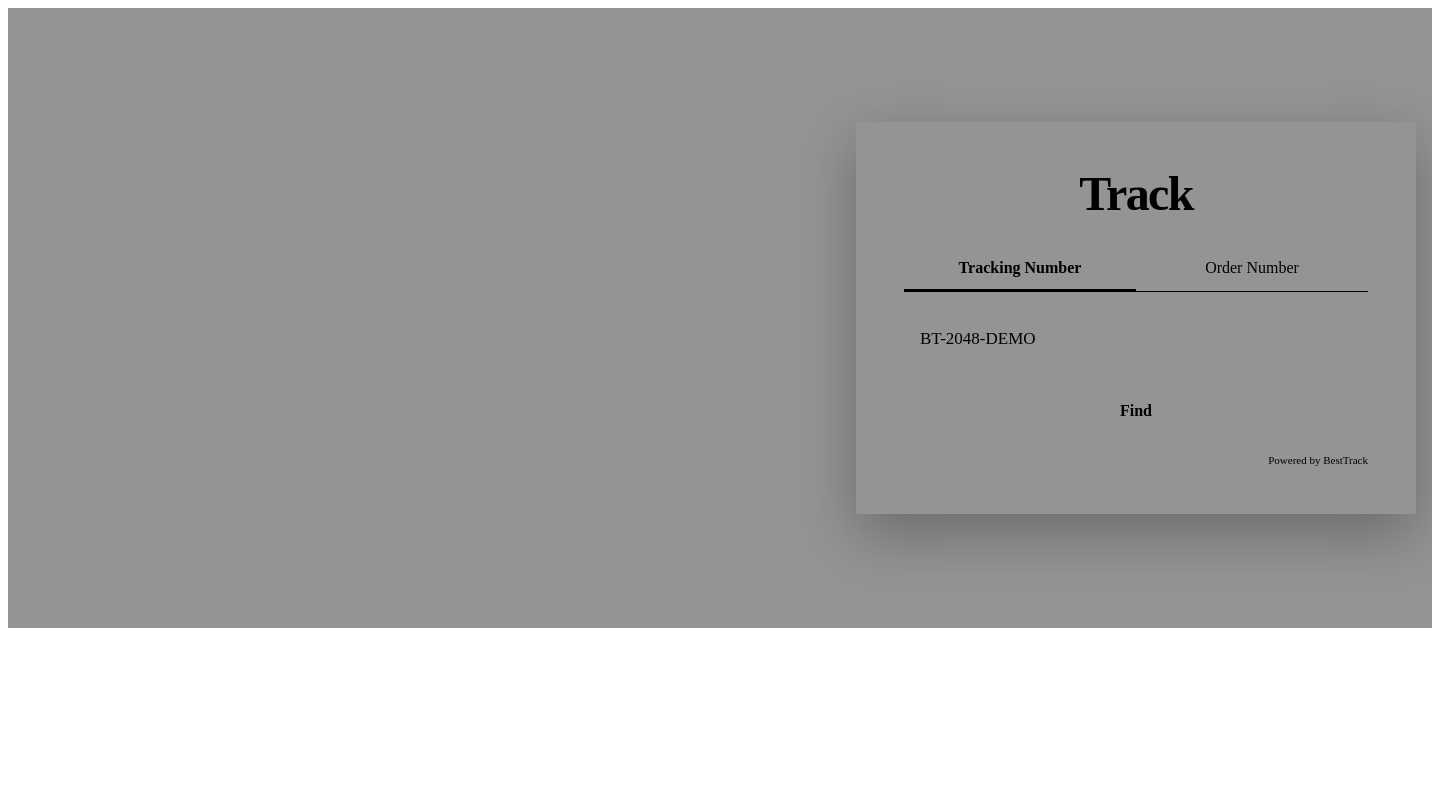
Scenario: discriminated query cards › shows Sales local validation, preserves tab input, and replaces the in-card result
The width and height of the screenshot is (1440, 810).
Click the tab "Order Number": {"x": 1252, "y": 269} [1136,247,1368,291]
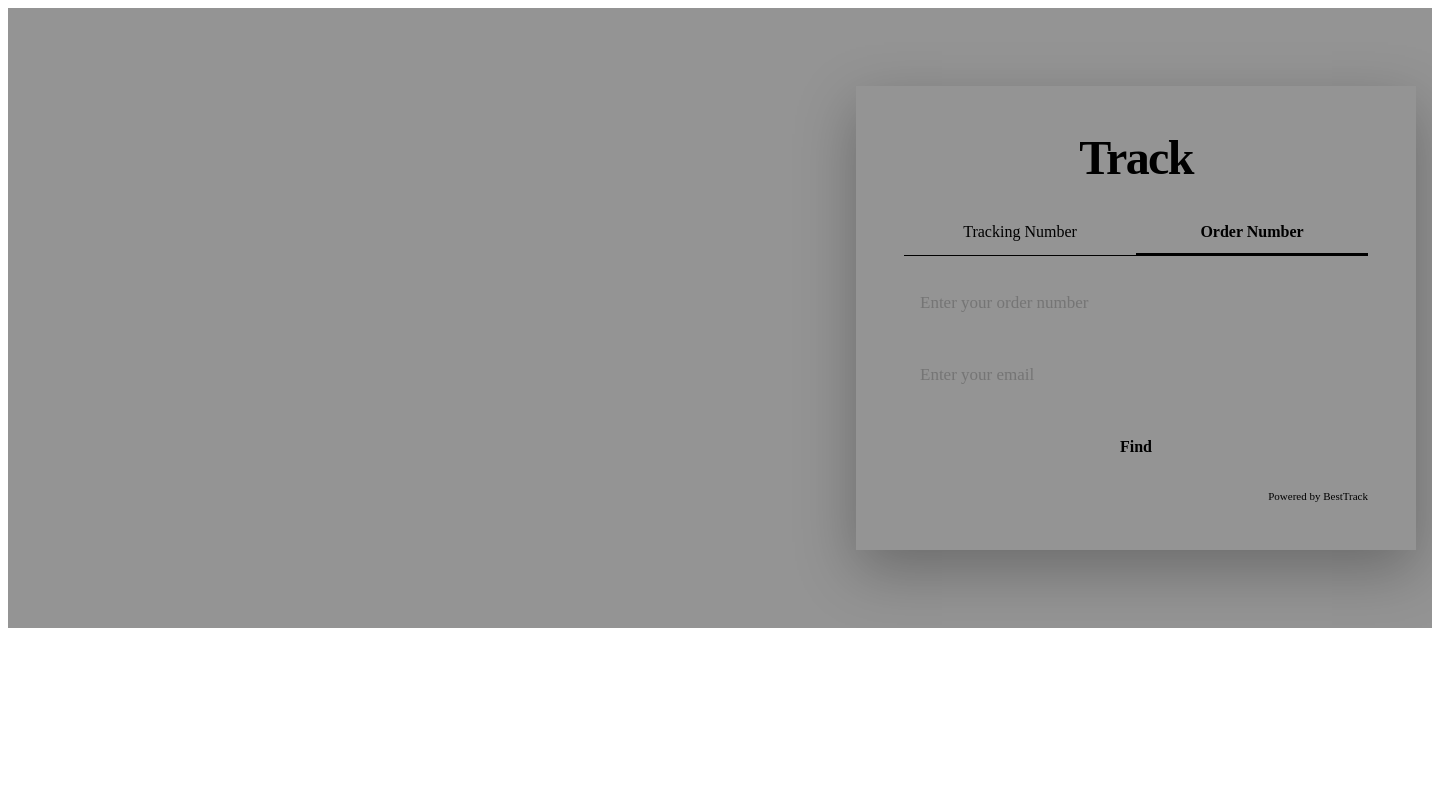
Note: 订单号和邮箱都为空时在表单边界拦截；不依赖旧 Sales 分字段格式错误文案。
Click the button "Find": {"x": 1136, "y": 447} [904,418,1368,476]
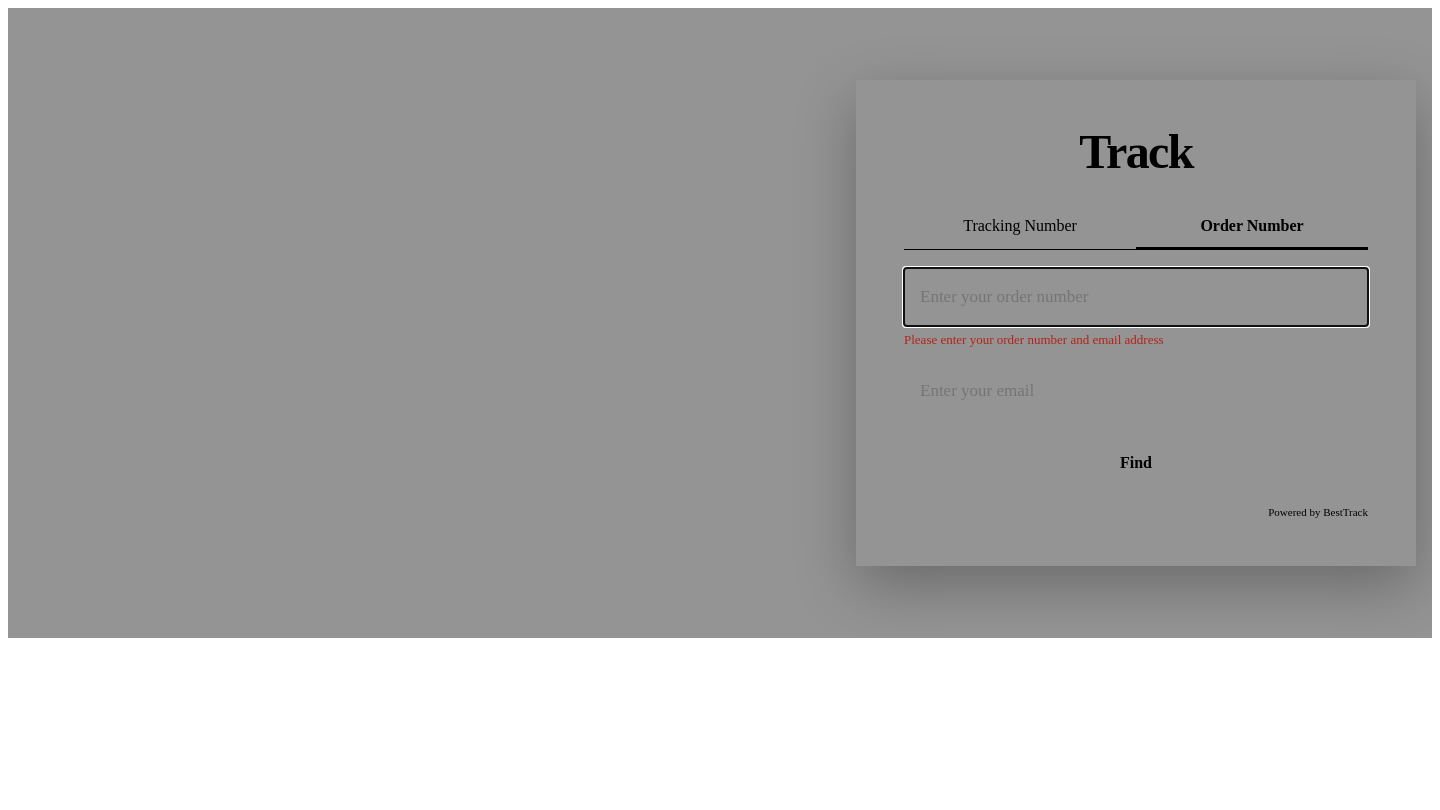
Result: the message "Please enter your order number and email address" is not empty at [904,332,1164,347]
Click the tab "Tracking Number": {"x": 1020, "y": 227} [904,205,1136,249]
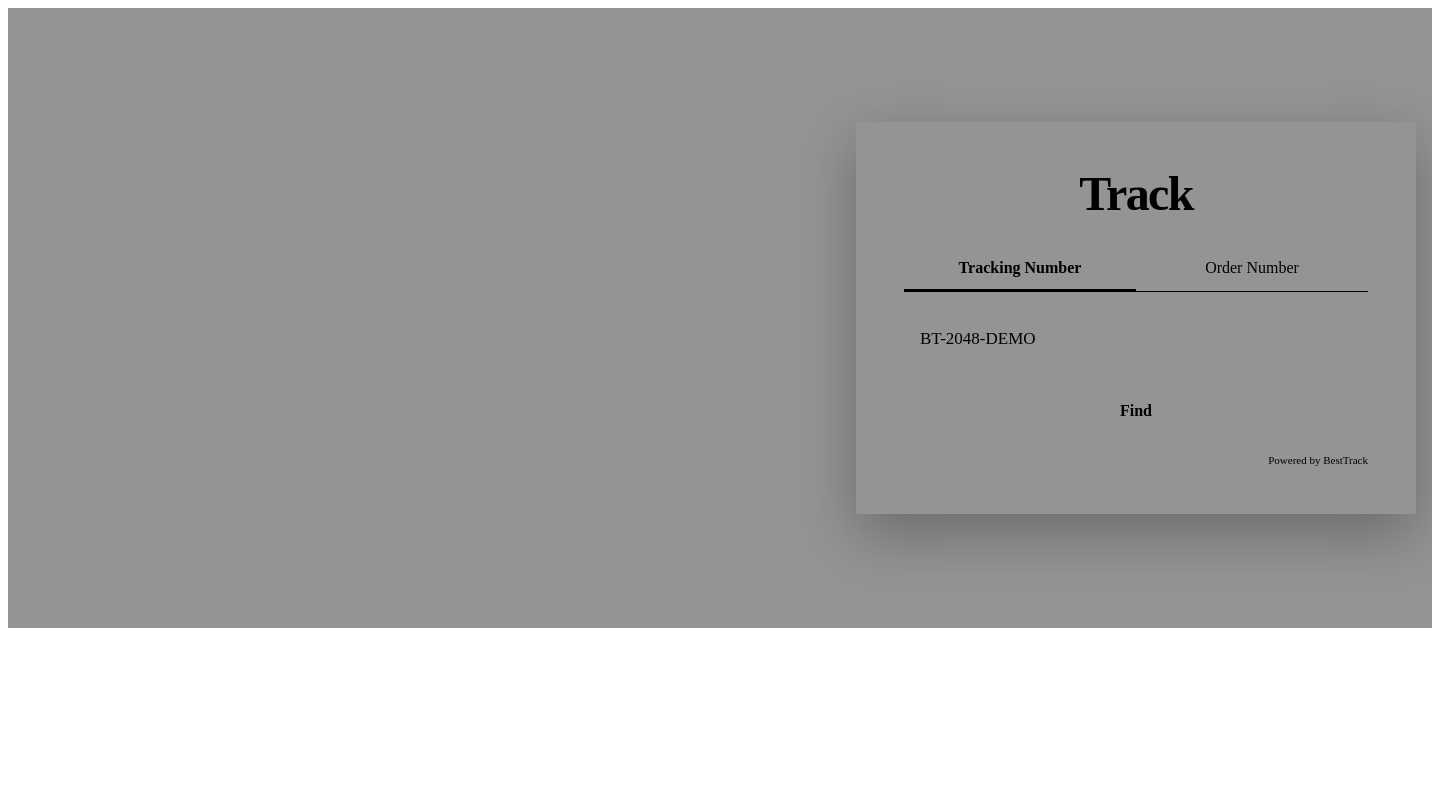
Replace the text in the field named "Sales tracking number" with "BT-2048": {"x": 1136, "y": 339} [904,310,1368,368]
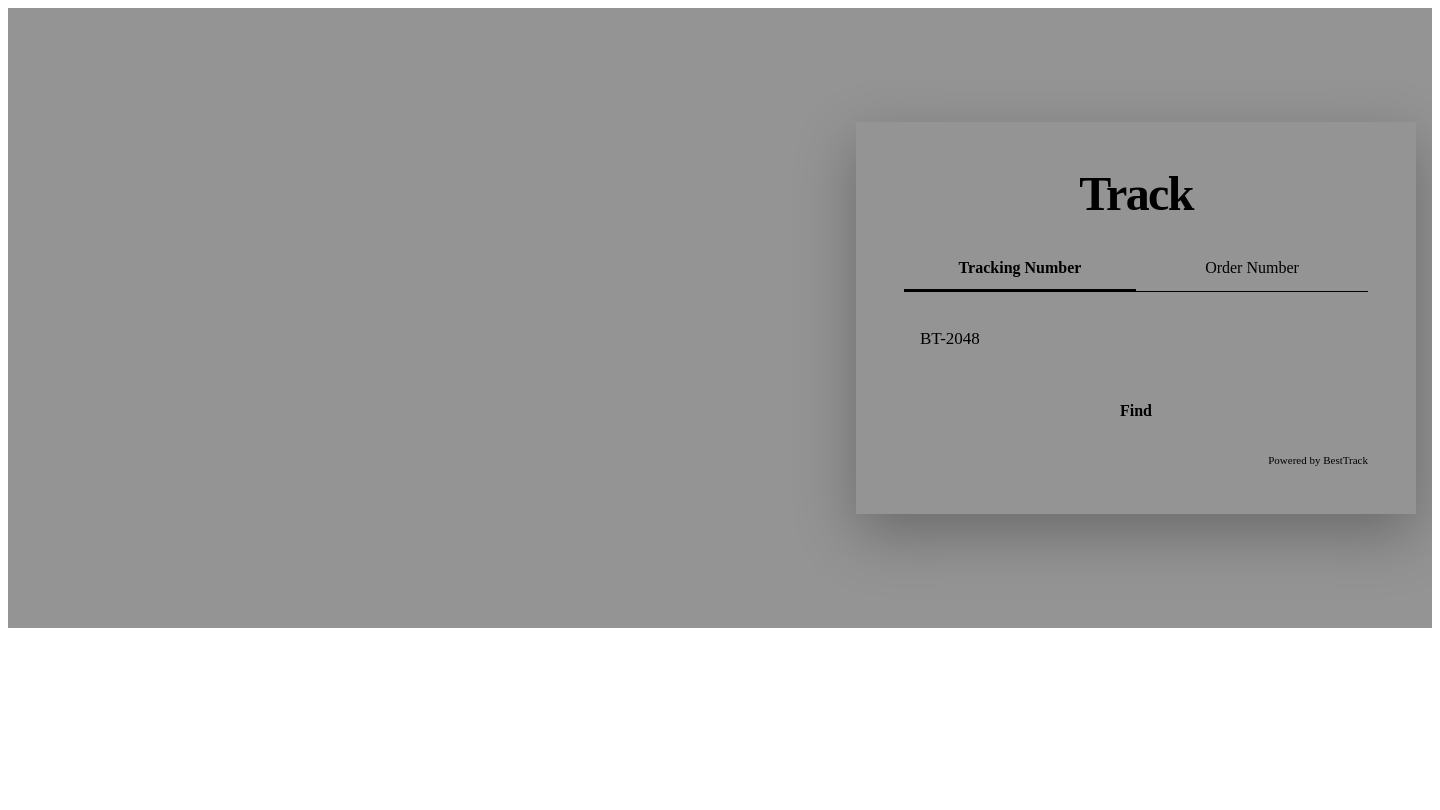
Click the button "Find": {"x": 1136, "y": 411} [904,382,1368,440]
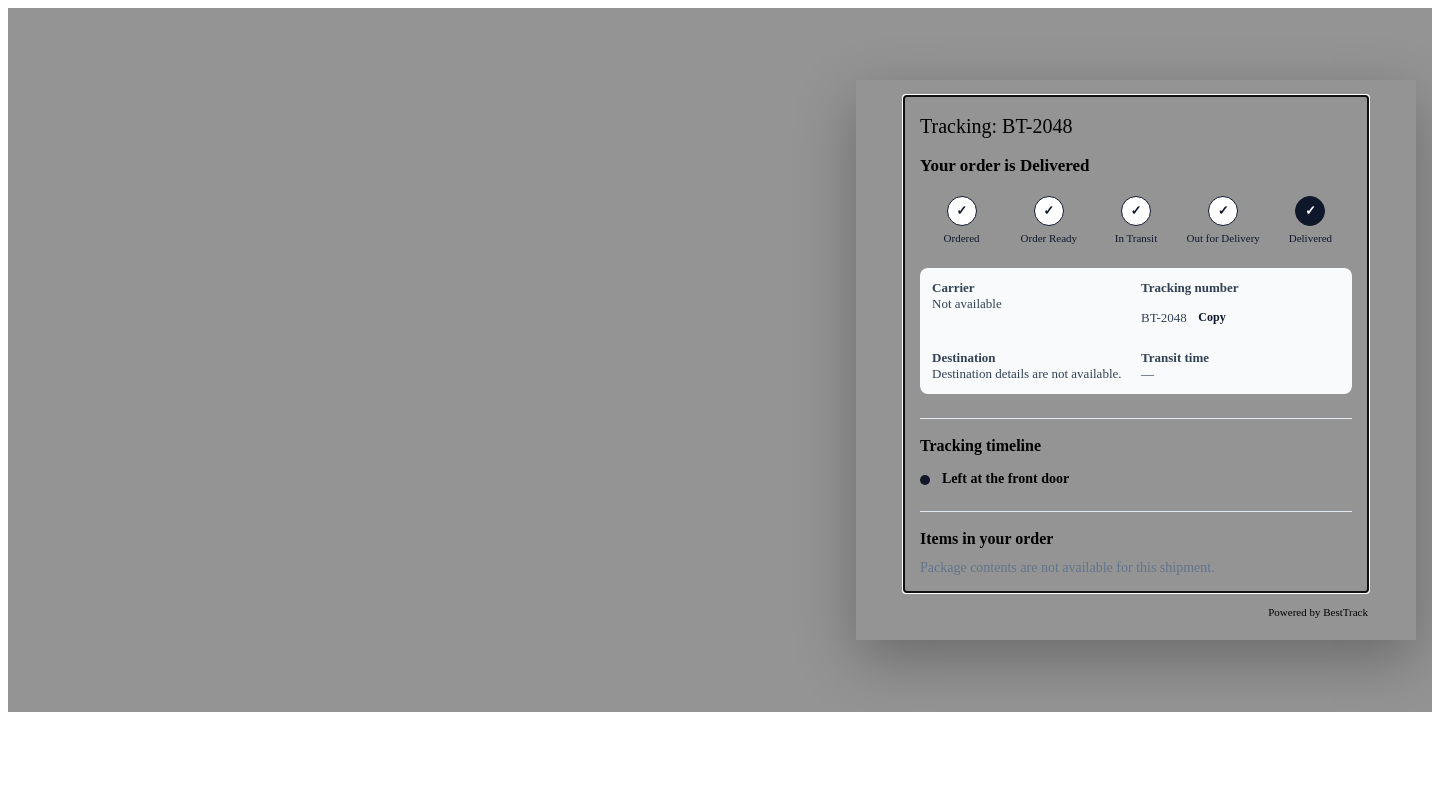
Result: the element with test id "sales-result" shows "Delivered" at [1020,156,1090,175]
